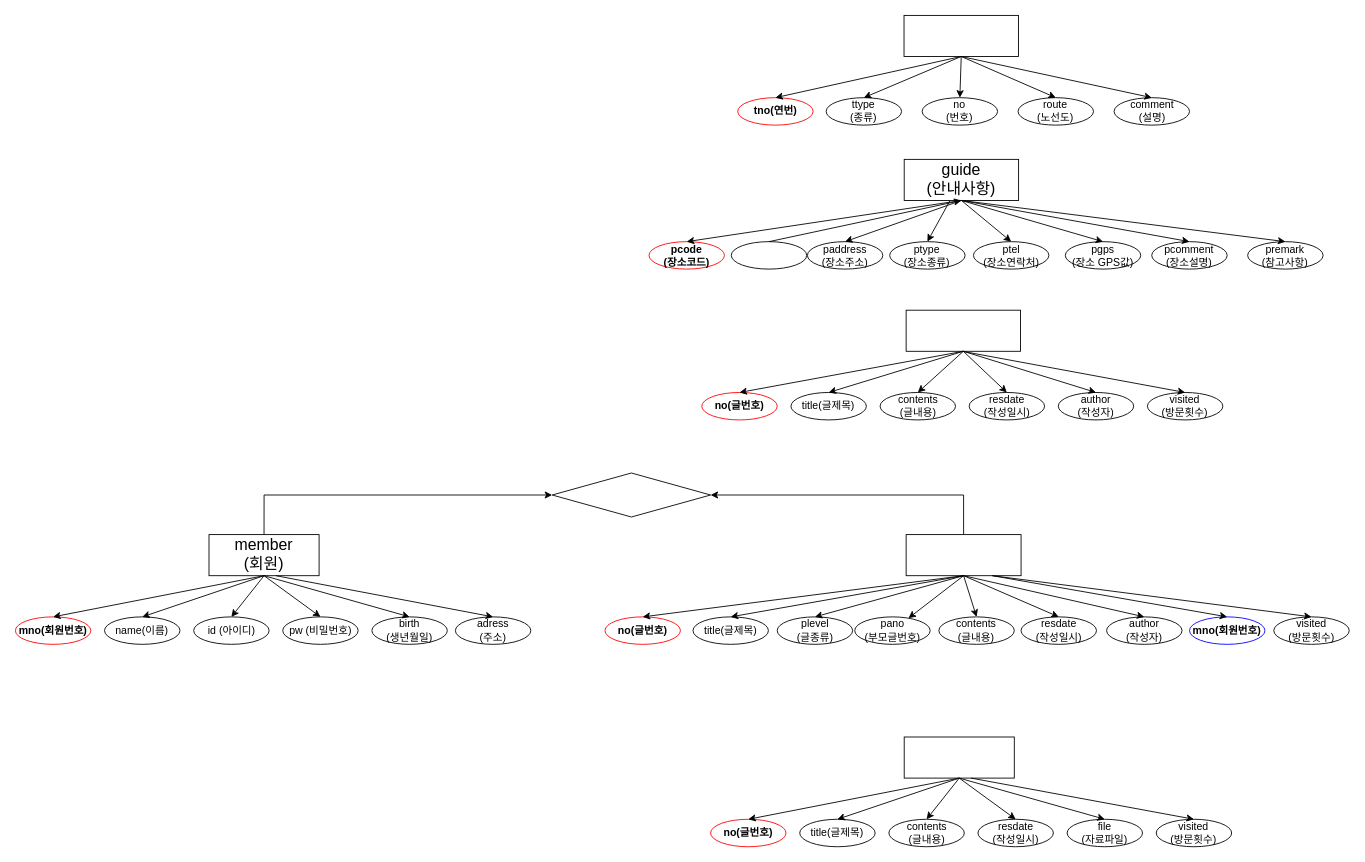
This 1365x862 diagram has some shape labels left out. Here are the shapes that lost their labels. From the top down, the box of each, then its label:
(903, 15, 1018, 56): traffic
(730, 241, 807, 269): pname (장소이름)
(905, 309, 1021, 351): notice (공지사항)
(551, 472, 711, 517): 글 등록
(905, 534, 1021, 576): qna (묻고 답하기)
(903, 736, 1014, 778): data (자료실)
